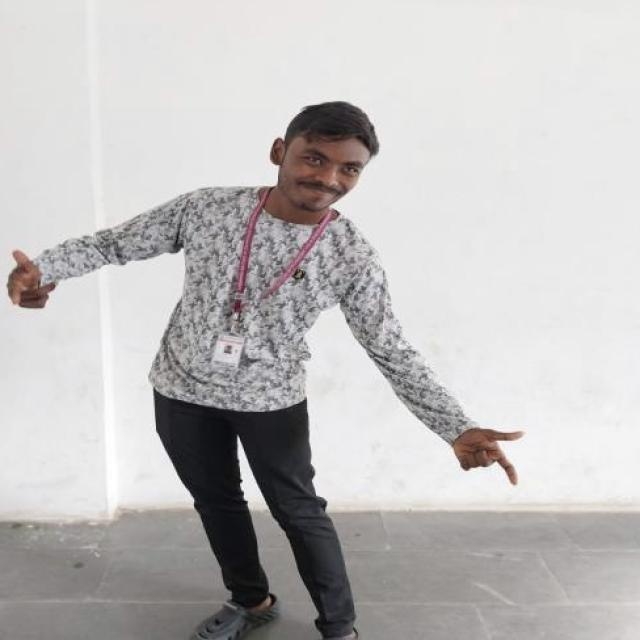ID_card: (206, 212, 320, 365)
